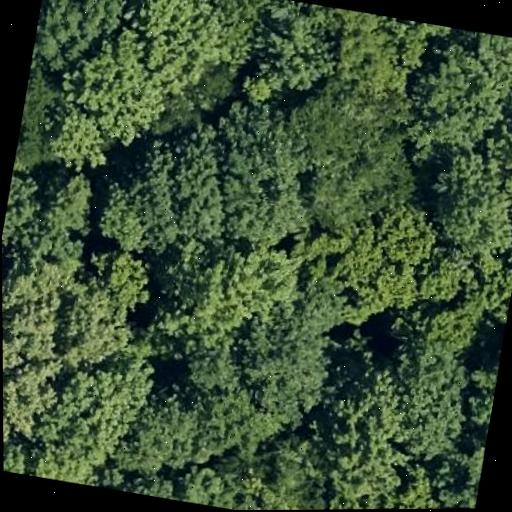tree-top: (90, 86, 322, 277), (261, 62, 437, 247), (221, 283, 353, 433), (2, 243, 90, 455), (314, 198, 440, 327), (52, 24, 176, 144), (373, 331, 472, 473), (231, 0, 353, 115), (395, 37, 509, 159), (111, 381, 237, 491), (313, 5, 441, 97), (416, 141, 512, 263), (124, 0, 236, 92), (1, 160, 99, 263), (316, 435, 447, 510), (31, 0, 133, 77), (81, 241, 158, 317), (42, 103, 121, 176), (455, 334, 504, 444), (201, 0, 270, 78), (409, 244, 473, 309)
